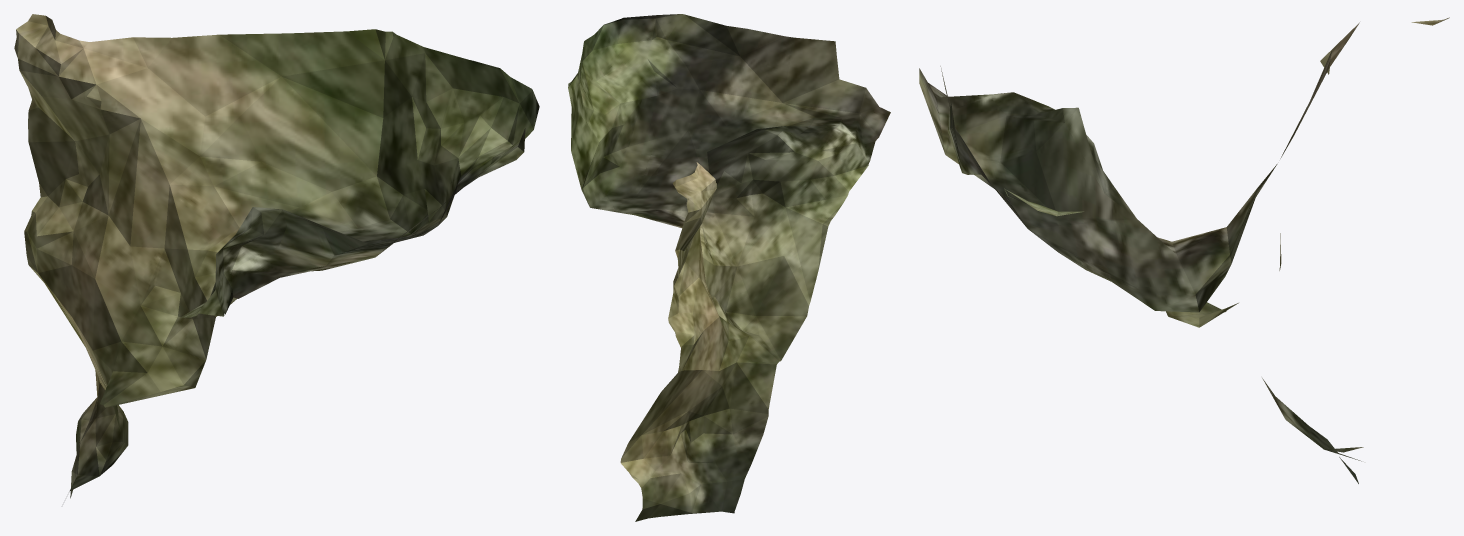
The picture shows the model from 3 angles, left to right: view 1: azimuth 30°, elevation 25°; view 2: azimuth 150°, elevation 25°; view 3: azimuth 270°, elevation 25°; orthographic projection. The views are drawn at different scales.
Bounding box in the file's own units: 2.22 × 2.95 × 2.95.
Materials: 3 (3 with a texture image).
